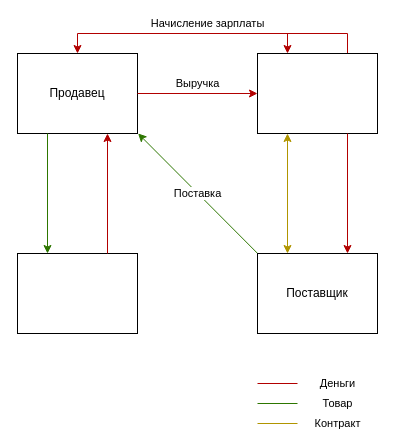
Image size: 395x447. Some labels were removed from this diagram. The shapes that lost their labels are listed below. From the top down, each one's centre as x and y in pixels, then its label:
At (317,93): "Хозяин".
At (77,293): "Покупатель".
